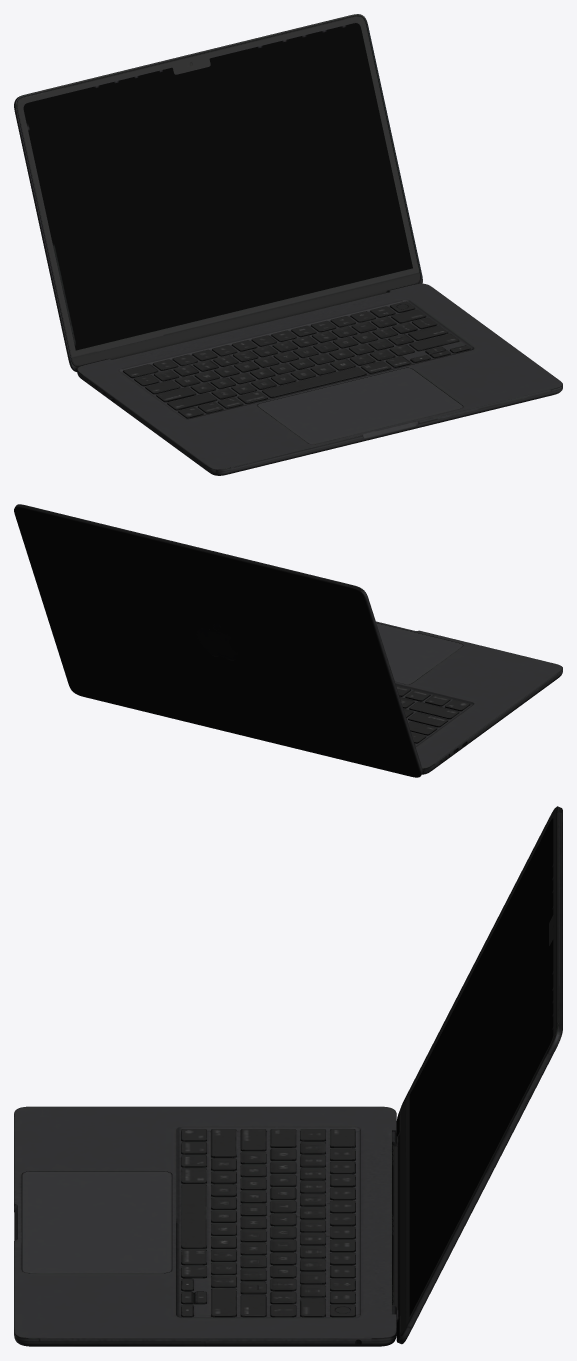
File: macbookair.glb
The picture shows the model from 3 angles, top to bottom: view 1: azimuth 30°, elevation 25°; view 2: azimuth 150°, elevation 25°; view 3: azimuth 270°, elevation 25°; orthographic projection. The views are drawn at different scales.
Parts seen in each view (by area): view 1: Main_Casing; view 2: Main_Casing; view 3: Main_Casing.
Boxes of the visible parts, box(x1,y1,x2,y2) form: Main_Casing: box(14, 14, 562, 475); Main_Casing: box(14, 504, 562, 777); Main_Casing: box(14, 806, 562, 1346).
Size of the model in its own units: 0.3405 by 0.218 by 0.3408.
1 material, 1 textured.
